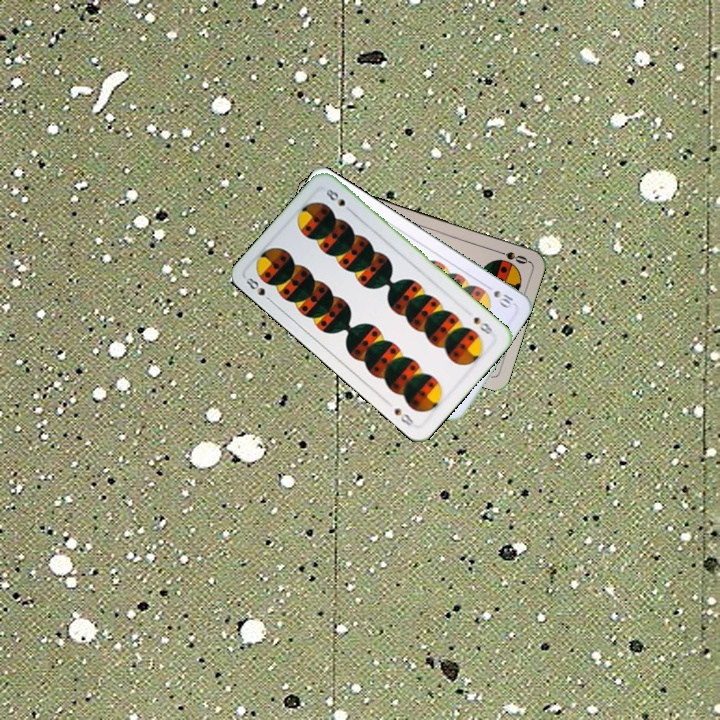S10: (481, 280, 516, 311)
S8: (242, 273, 275, 305), (469, 313, 496, 337)
SO: (491, 246, 531, 267)
